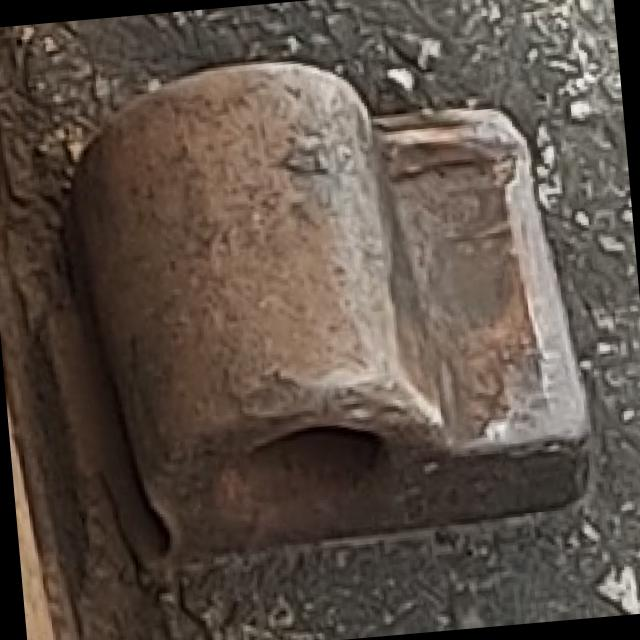track_bolt_missing: (56, 39, 456, 531)
